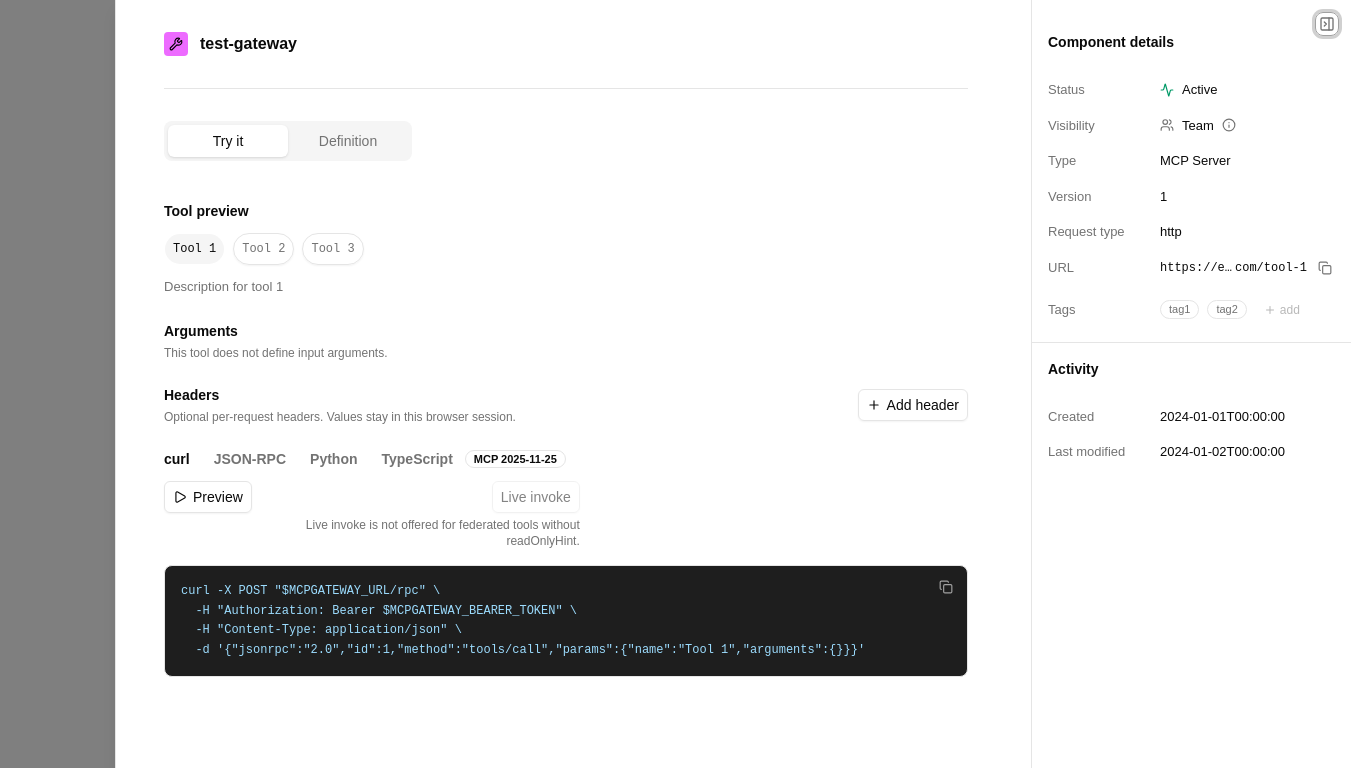
it: ToolDetailsPanel › displays all tools in table on the Definition tab
Click the tab "Definition". click: (348, 141)
box: [288,125,408,157]
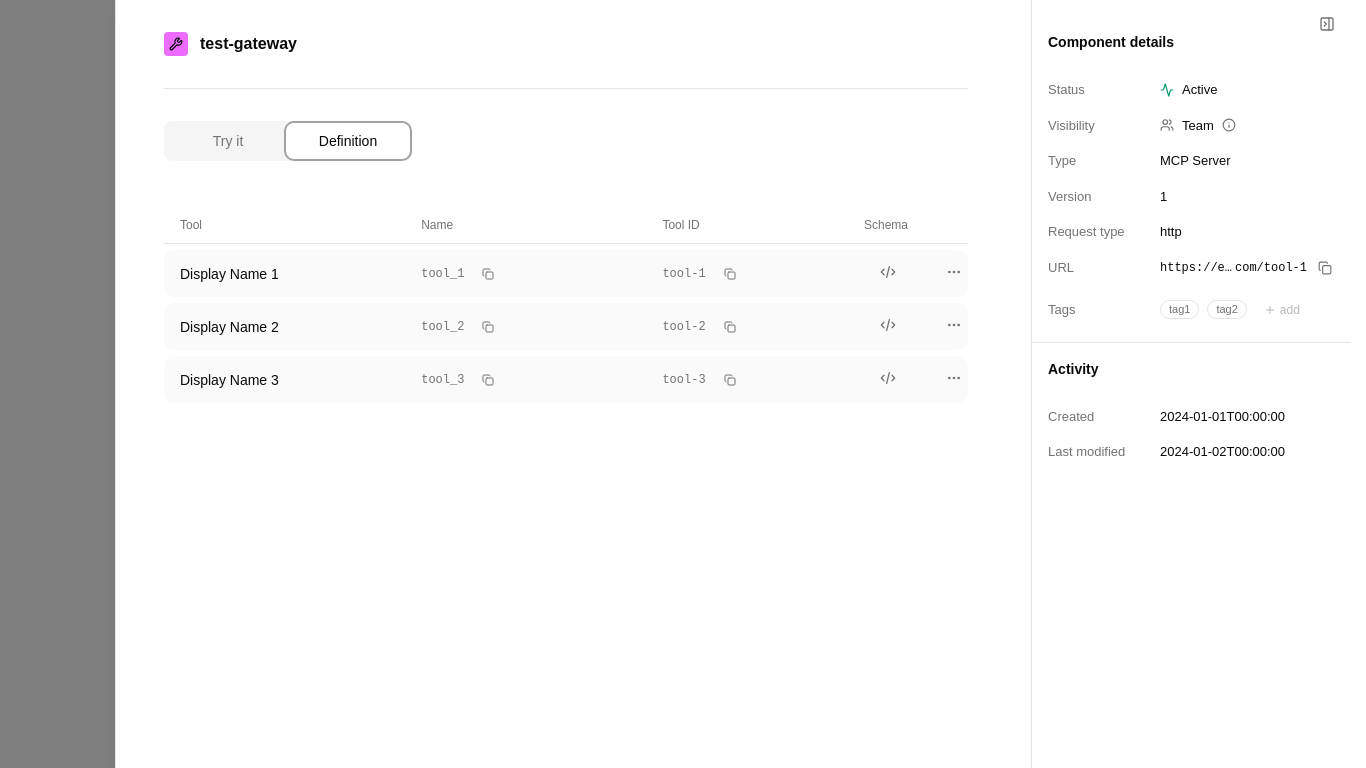
Now the text "tool_1" is shown, box [421,266,464,282]
Now the text "tool_2" is shown, box [421,318,464,334]
Now the text "tool_3" is shown, box [421,372,464,388]
